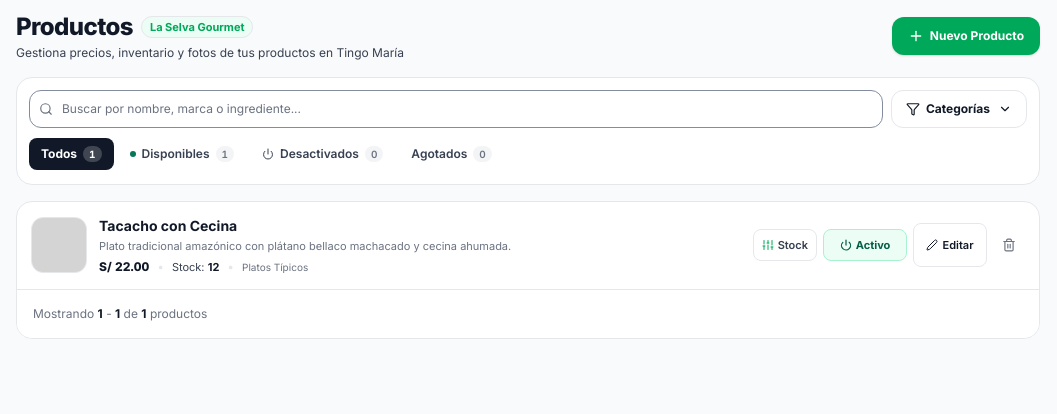
Bloque 4: Productos e Inventario (MerchantProductsPage) › permite pausar y activar un producto con confirmación del servidor
Click the button "Activo": (865, 245) [823,229,907,261]
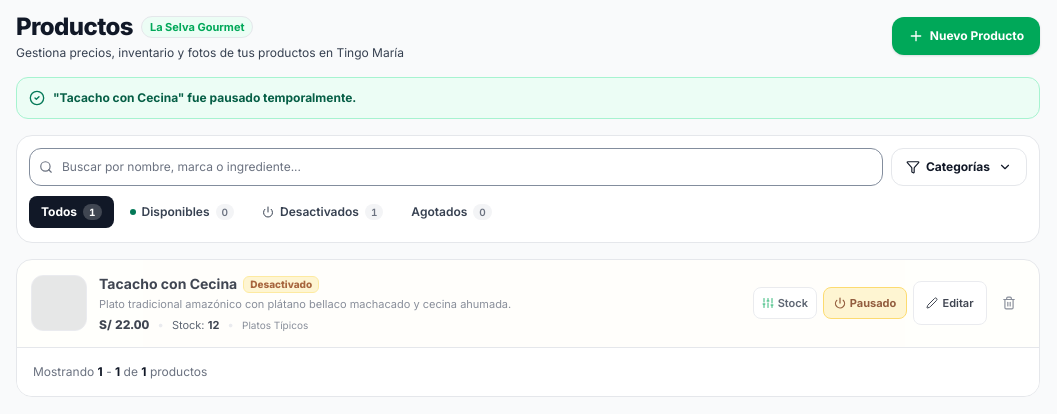
Expected: the text "\"Tacacho con Cecina\" fue pausado temporalmente." is shown, [53,90,356,106]
